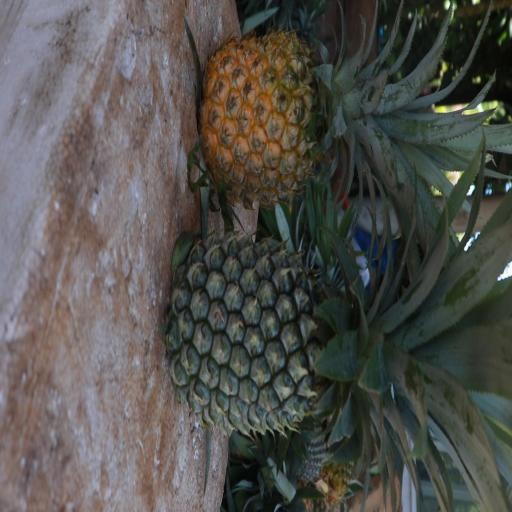Pineapple - v8 v1: (199, 36, 460, 196)
